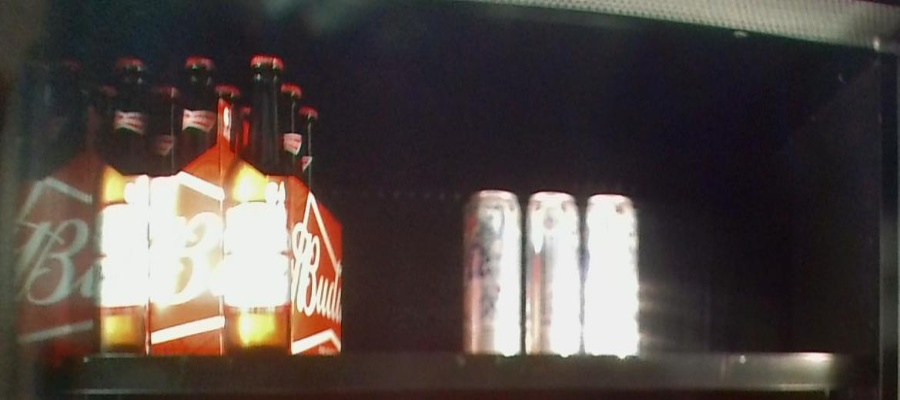bottle: (153, 51, 340, 355), (15, 51, 151, 352), (464, 191, 637, 355)
